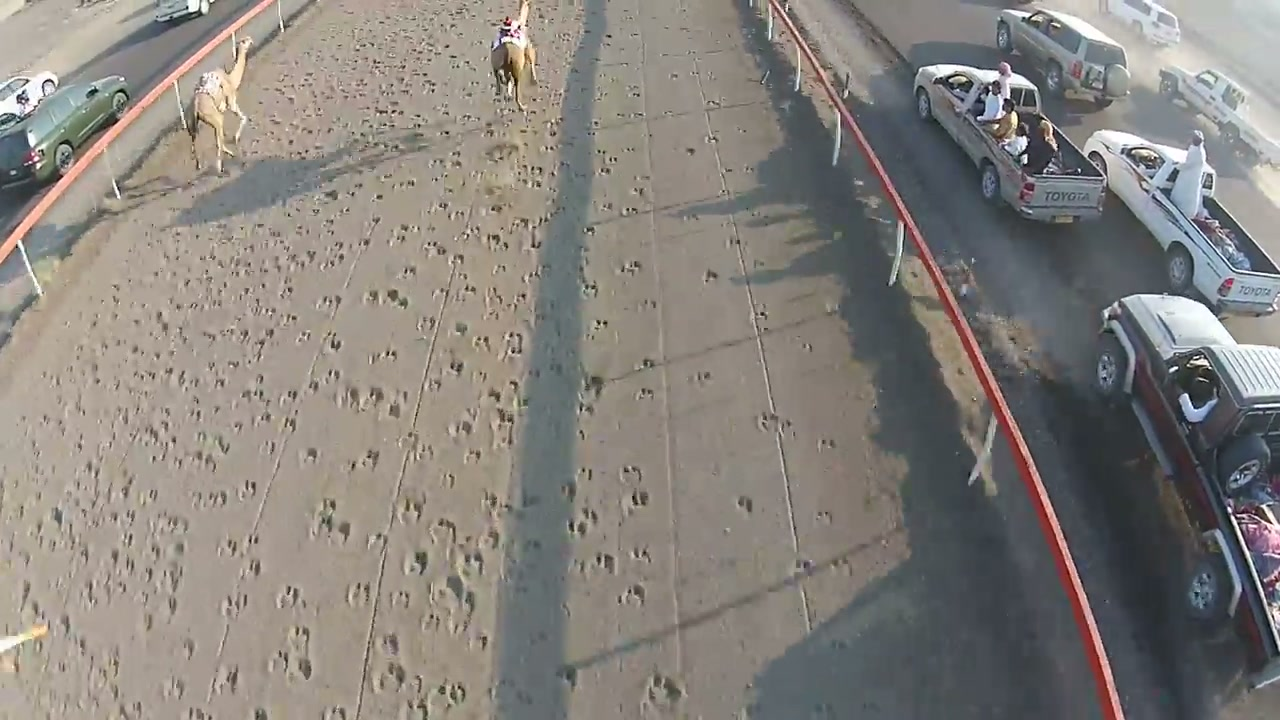animal_foot_print: (128, 78, 404, 691), (342, 89, 575, 706)
